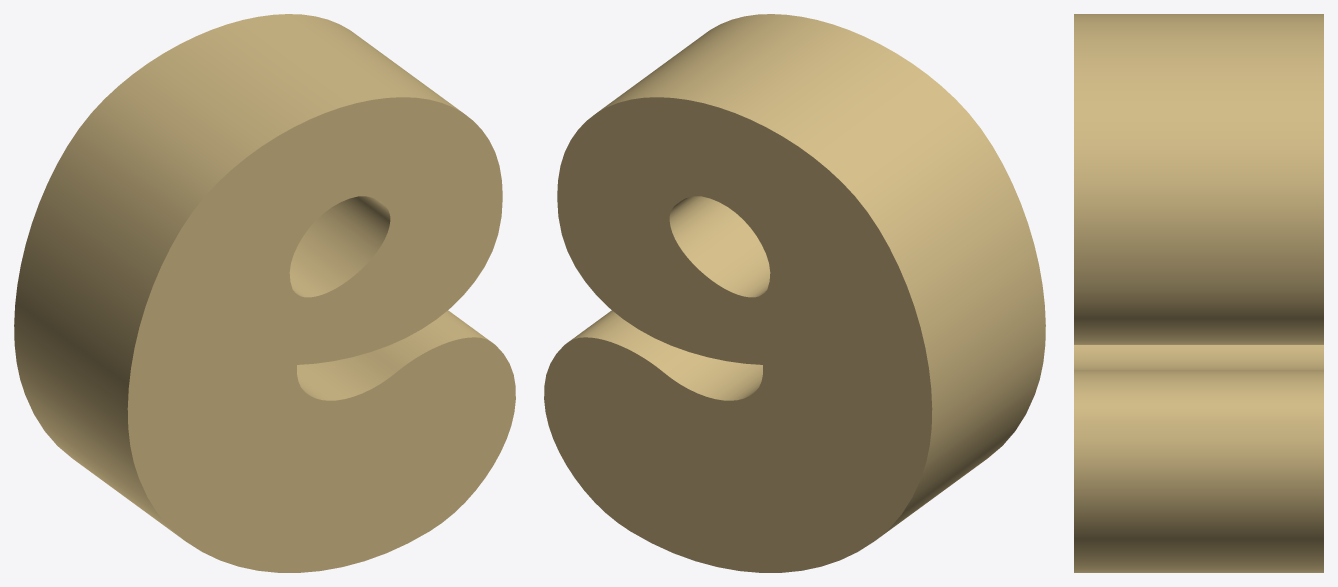
The model's file is small-e.fbx.
3 views of the same model, side by side, from view 1: azimuth 30°, elevation 25°; view 2: azimuth 150°, elevation 25°; view 3: azimuth 270°, elevation 25° (orthographic). The views are drawn at different scales.
Parts seen in each view (by area): view 1: small_e; view 2: small_e; view 3: small_e.
Part boxes in pixels (left/top/right/bottom): small_e: left=14, top=14, right=515, bottom=572; small_e: left=544, top=14, right=1045, bottom=572; small_e: left=1074, top=14, right=1323, bottom=572.
Size of the model in its own units: 4.93 by 5.59 by 2.5.
